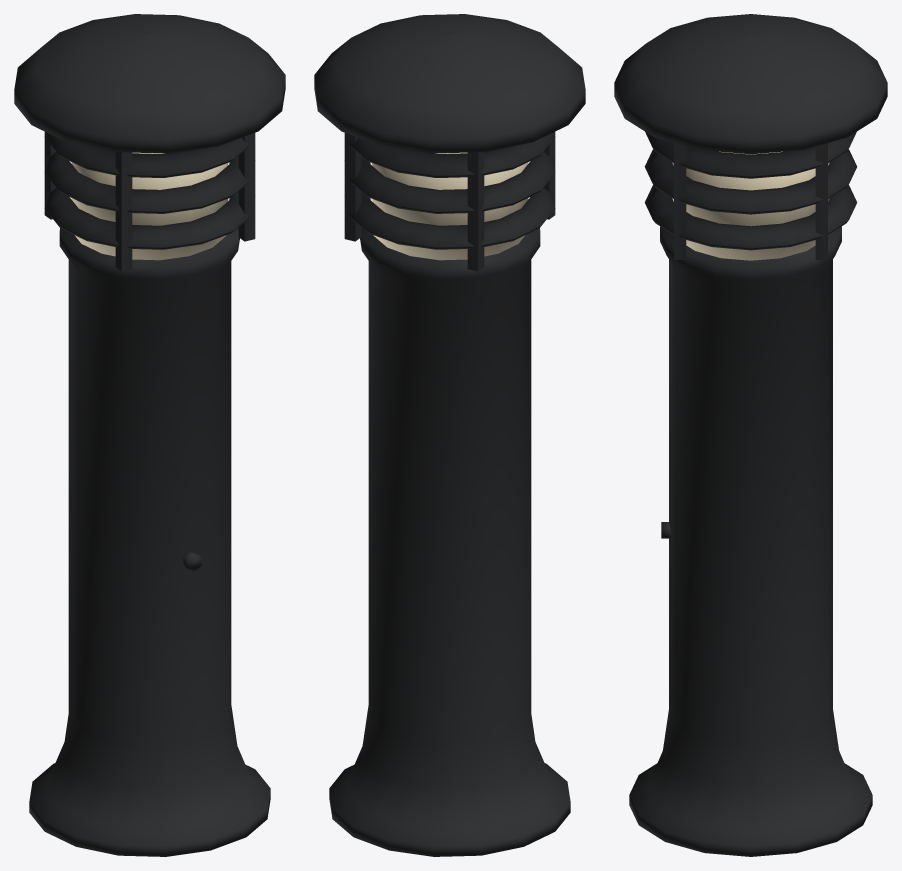
File: pathLight.glb
3 views of the same model, side by side, from view 1: azimuth 30°, elevation 25°; view 2: azimuth 150°, elevation 25°; view 3: azimuth 270°, elevation 25° (orthographic).
Parts seen in each view (by area): view 1: pathLight; view 2: pathLight; view 3: pathLight.
Part boxes in pixels (x1,y1,x2,y2): pathLight: (14,14,285,856); pathLight: (314,14,585,856); pathLight: (614,14,887,856).
Bounding box in the file's own units: 0.18 × 0.56 × 0.18.
